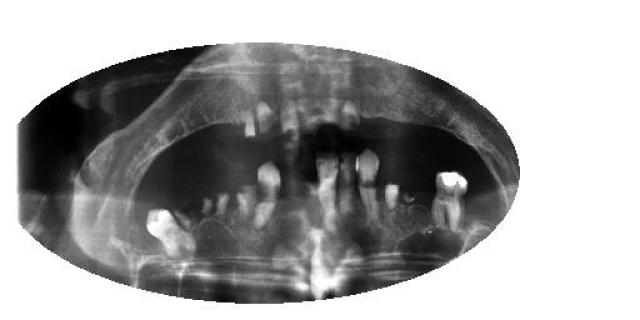Cavity: (255, 100, 280, 146), (339, 99, 361, 138), (280, 102, 299, 142), (236, 184, 255, 222), (242, 106, 256, 144), (385, 178, 399, 214), (214, 188, 230, 218), (200, 192, 215, 218)
Fillings: (432, 171, 468, 234)
